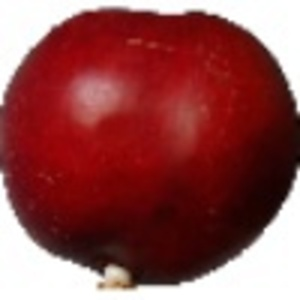nectarina: (1, 6, 300, 294)
